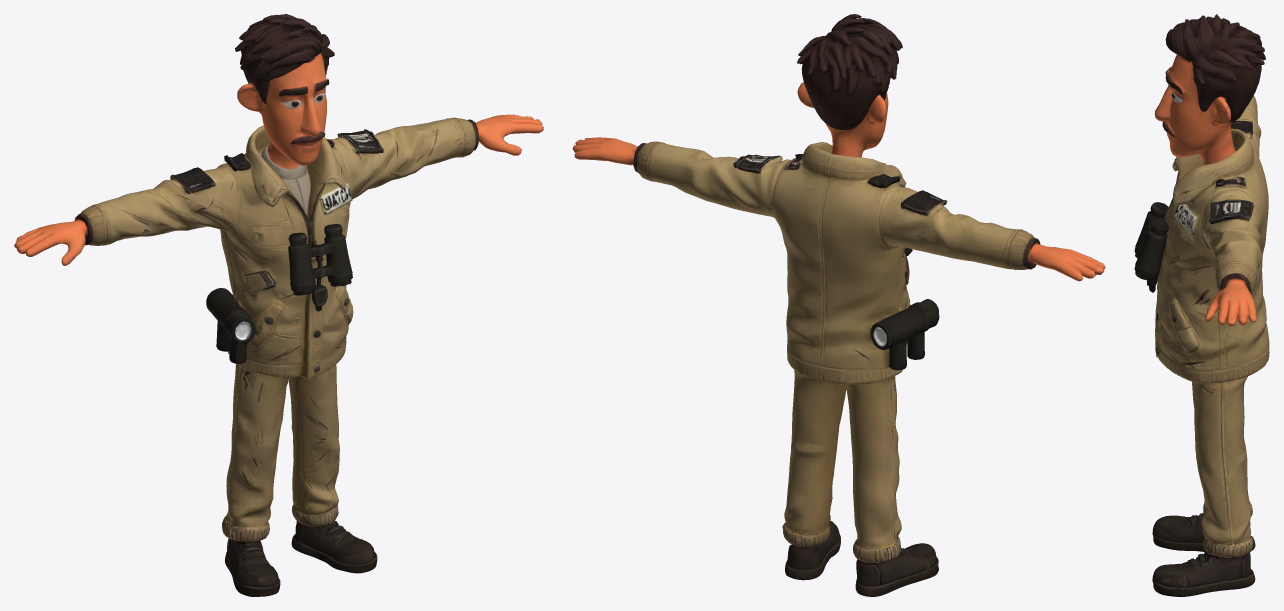
The model's file is neighbourhood_watch.glb.
3 renders of one model, left to right at view 1: azimuth 30°, elevation 25°; view 2: azimuth 150°, elevation 25°; view 3: azimuth 270°, elevation 25°, orthographic.
Parts seen in each view (by area): view 1: tripo_node_eb6b1bae-22d3-472c-8fb1-62b11ff715c3; view 2: tripo_node_eb6b1bae-22d3-472c-8fb1-62b11ff715c3; view 3: tripo_node_eb6b1bae-22d3-472c-8fb1-62b11ff715c3.
Boxes of the visible parts, x1,y1,x2,y2 form: tripo_node_eb6b1bae-22d3-472c-8fb1-62b11ff715c3: (14, 14, 543, 596); tripo_node_eb6b1bae-22d3-472c-8fb1-62b11ff715c3: (572, 14, 1105, 596); tripo_node_eb6b1bae-22d3-472c-8fb1-62b11ff715c3: (1134, 14, 1269, 596).
Bounding box in the file's own units: 0.9812 × 0.9781 × 0.2194.
1 material, 1 textured.
